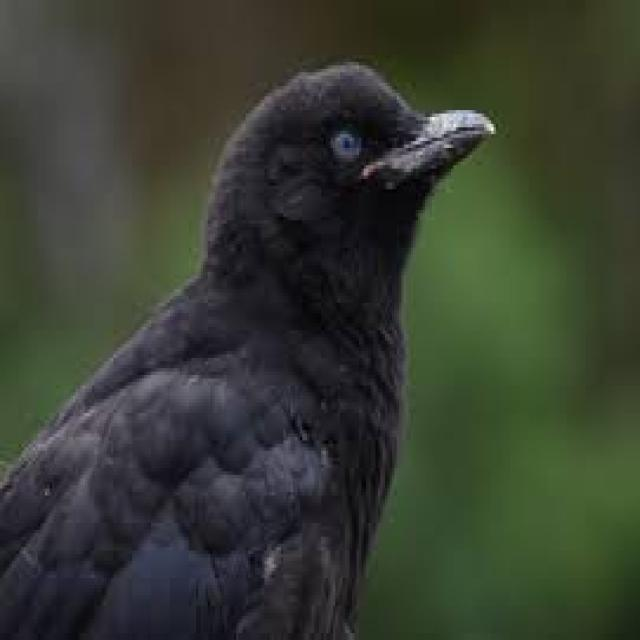crow: (217, 57, 452, 378)
